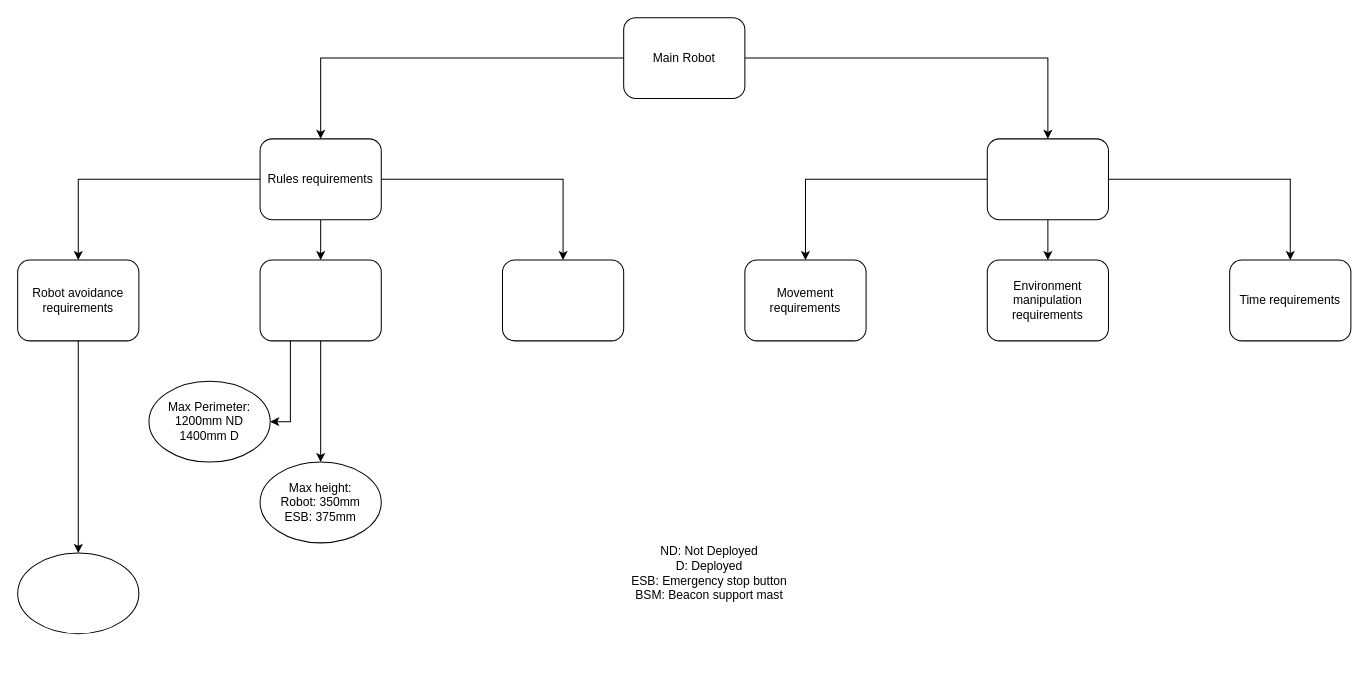
The diagram is 1369 pixels wide and 682 high, and some of its shapes have lost their labels. Each missing label, with the box of its shape:
Build requirements: (501, 259, 624, 341)
Challenge requirements: (986, 138, 1108, 220)
Detect the other robot: (17, 552, 139, 634)
Size requirements: (259, 259, 381, 341)
